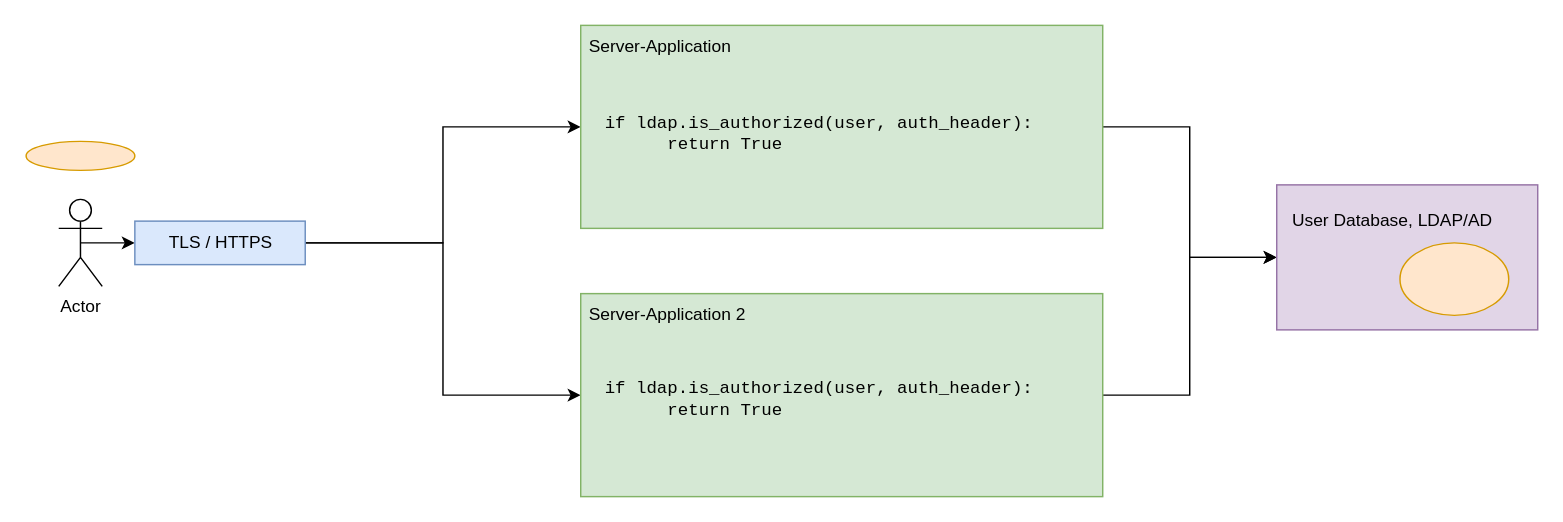
The diagram is 1563 pixels wide and 522 high, and some of its shapes have lost their labels. The shapes that lost their labels are listed below. From the top down, each one's centre as x and y in pixels, then its label:
At [80,155]: "secret".
At [1454,278]: "salted/hashed secret".
